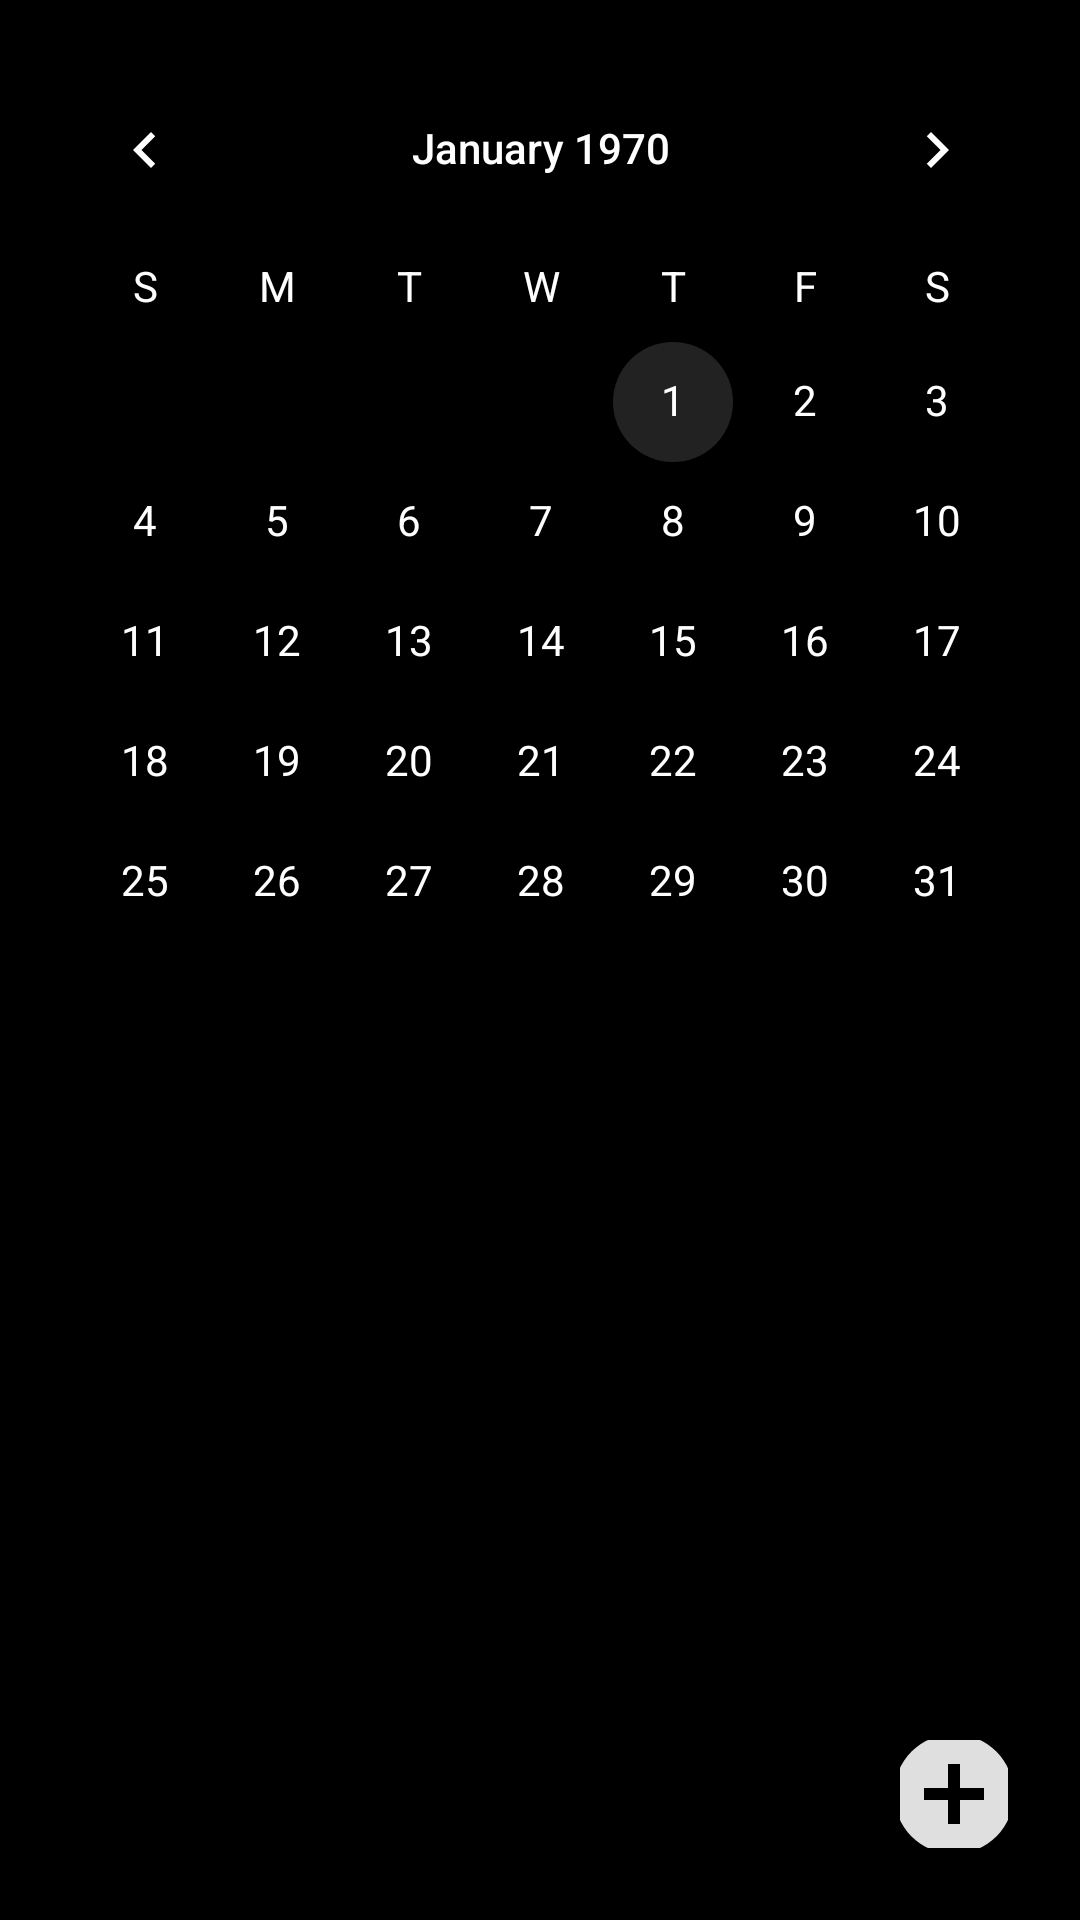

Icons on this 1080x1920 Android screen, each with the point to tap as [x,y]:
add circle: [954,1794]
